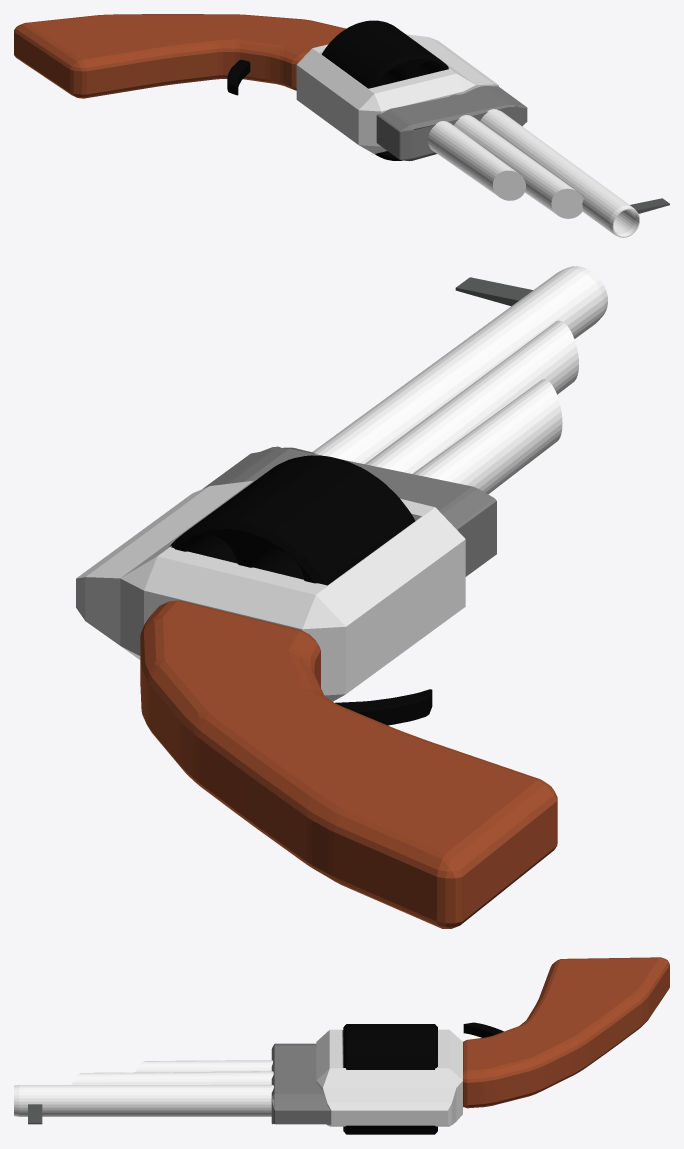
The model's file is WeapenUp.fbx.
The picture shows the model from 3 angles, top to bottom: view 1: azimuth 30°, elevation 25°; view 2: azimuth 150°, elevation 25°; view 3: azimuth 270°, elevation 25°; orthographic projection. The views are drawn at different scales.
Parts seen in each view (by area): view 1: Handle, WheelOutter, Wheel, GunBody, GunTubeMain, GunTube2, GunTube1, Trigger, Target; view 2: Handle, WheelOutter, Wheel, GunTubeMain, GunTube2, GunTube1, GunBody, Trigger, Target; view 3: Handle, WheelOutter, GunTubeMain, Wheel, GunBody, GunTube2, GunTube1, Trigger, Target.
Part boxes in pixels (x1,y1,x2,y2): Handle: (14, 14, 345, 98); WheelOutter: (296, 33, 498, 153); Wheel: (322, 20, 448, 160); GunBody: (376, 86, 527, 161); GunTubeMain: (480, 109, 639, 237); GunTube2: (454, 115, 583, 218); GunTube1: (428, 121, 525, 200); Trigger: (227, 59, 250, 95); Target: (630, 198, 669, 213); Handle: (140, 600, 557, 928); WheelOutter: (76, 478, 465, 701); Wheel: (169, 455, 415, 585); GunTubeMain: (312, 266, 607, 463); GunTube2: (365, 320, 578, 473); GunTube1: (413, 379, 562, 494); GunBody: (203, 446, 496, 576); Trigger: (335, 689, 432, 725); Target: (455, 277, 532, 306); Handle: (463, 957, 669, 1108); WheelOutter: (316, 1029, 462, 1126); GunTubeMain: (14, 1085, 273, 1116); Wheel: (343, 1024, 437, 1134); GunBody: (271, 1043, 330, 1124); GunTube2: (71, 1071, 273, 1084); GunTube1: (135, 1060, 272, 1072); Trigger: (463, 1022, 503, 1037); Target: (28, 1104, 42, 1124).
Bounding box in the file's own units: 253 × 77.24 × 458.
